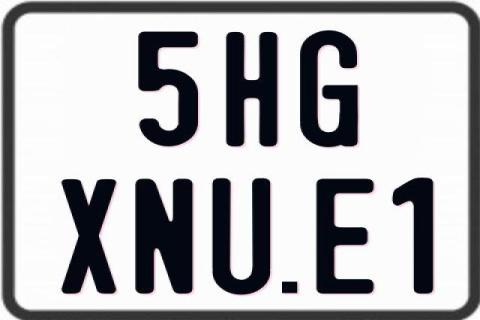0: (135, 29, 197, 148), (391, 175, 432, 295)
E: (316, 179, 375, 295)
G: (300, 29, 359, 147)
H: (224, 32, 280, 147)
N: (134, 178, 194, 294)
U: (209, 178, 273, 294)
X: (59, 179, 117, 296)
